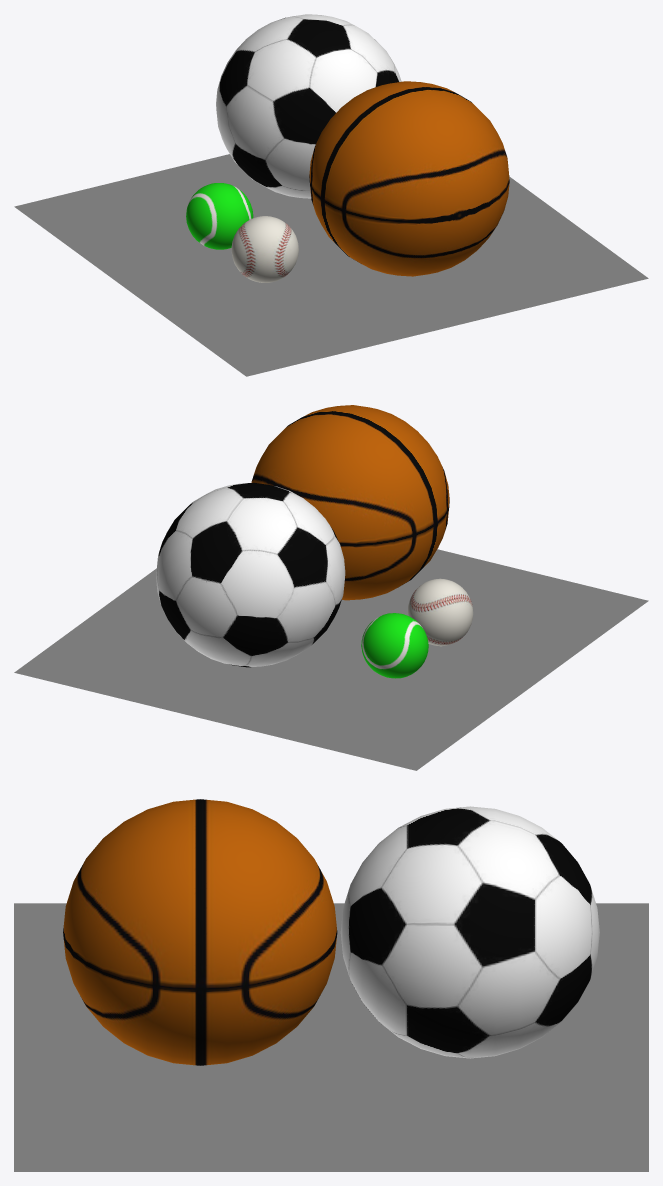
The picture shows the model from 3 angles, top to bottom: view 1: azimuth 30°, elevation 25°; view 2: azimuth 150°, elevation 25°; view 3: azimuth 270°, elevation 25°; orthographic projection. The views are drawn at different scales.
Parts seen in each view (by area): view 1: Floor, Basketball, Soccer Ball, Baseball, Tennis Ball; view 2: Floor, Soccer Ball, Basketball, Tennis Ball, Baseball; view 3: Floor, Basketball, Soccer Ball.
Boxes of the visible parts, <box> form: Floor: <box>14,154,648,376</box>; Basketball: <box>309,81,509,276</box>; Soccer Ball: <box>216,14,401,198</box>; Baseball: <box>231,216,298,282</box>; Tennis Ball: <box>186,183,253,249</box>; Floor: <box>14,549,648,770</box>; Soccer Ball: <box>156,482,345,667</box>; Basketball: <box>251,405,449,600</box>; Tennis Ball: <box>361,613,428,678</box>; Baseball: <box>407,578,473,646</box>; Floor: <box>14,903,648,1171</box>; Basketball: <box>63,799,337,1065</box>; Soccer Ball: <box>340,806,599,1058</box>.
Size of the model in its own units: 139 by 59.43 by 139.
5 materials, 4 textured.
